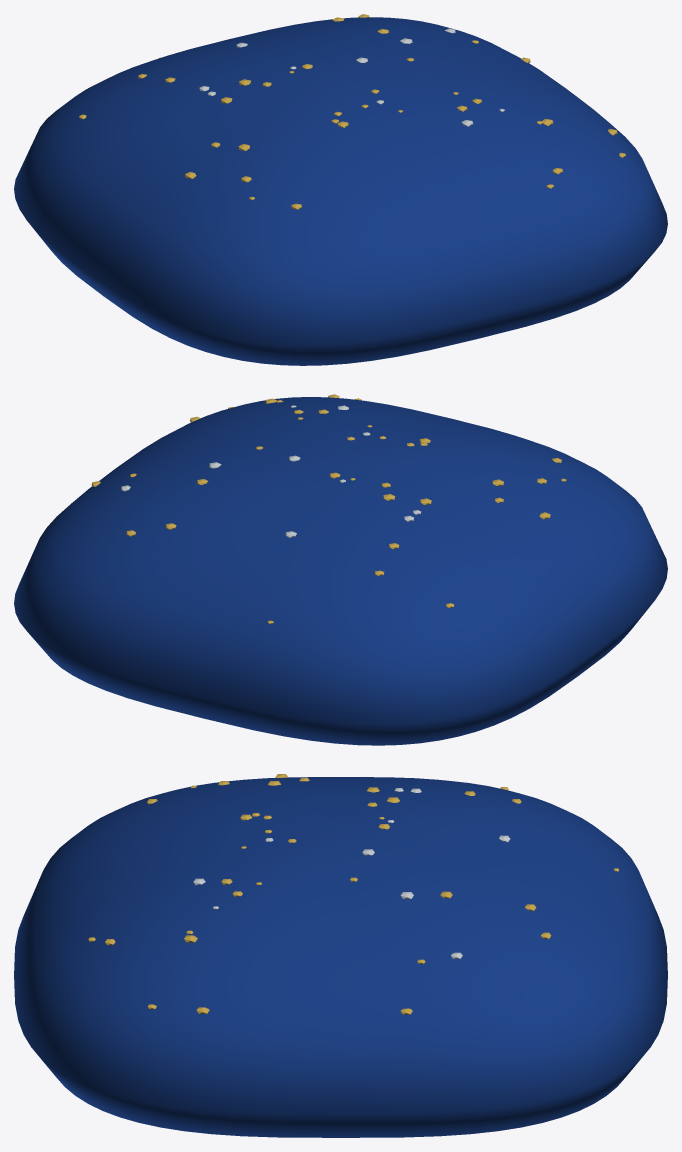
Rendered from stone-lapis-lazuli.glb.
3 renders of one model, top to bottom at view 1: azimuth 30°, elevation 25°; view 2: azimuth 150°, elevation 25°; view 3: azimuth 270°, elevation 25°, orthographic. The views are drawn at different scales.
Parts seen in each view (by area): view 1: Sculpture; view 2: Sculpture; view 3: Sculpture.
Boxes of the visible parts, box(x1,y1,x2,y2) form: Sculpture: box(14, 17, 667, 365); Sculpture: box(14, 397, 667, 745); Sculpture: box(14, 777, 667, 1137).
Size of the model in its own units: 2 by 0.603 by 2.
